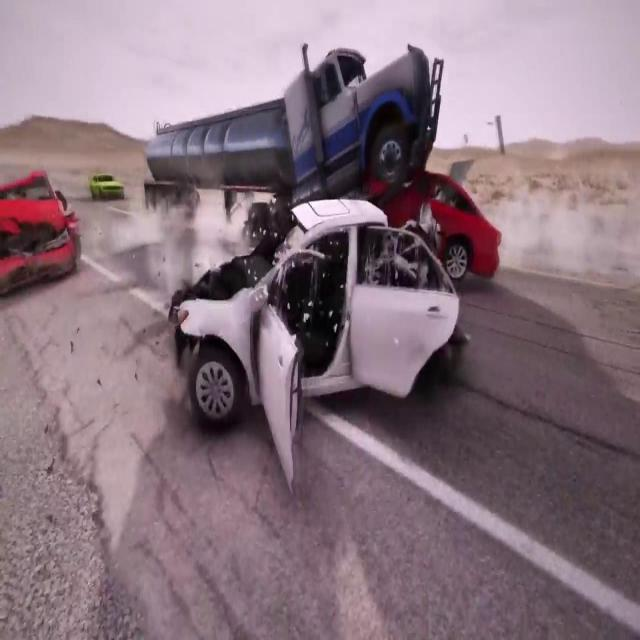accident: (164, 165, 464, 501), (138, 32, 508, 286)
